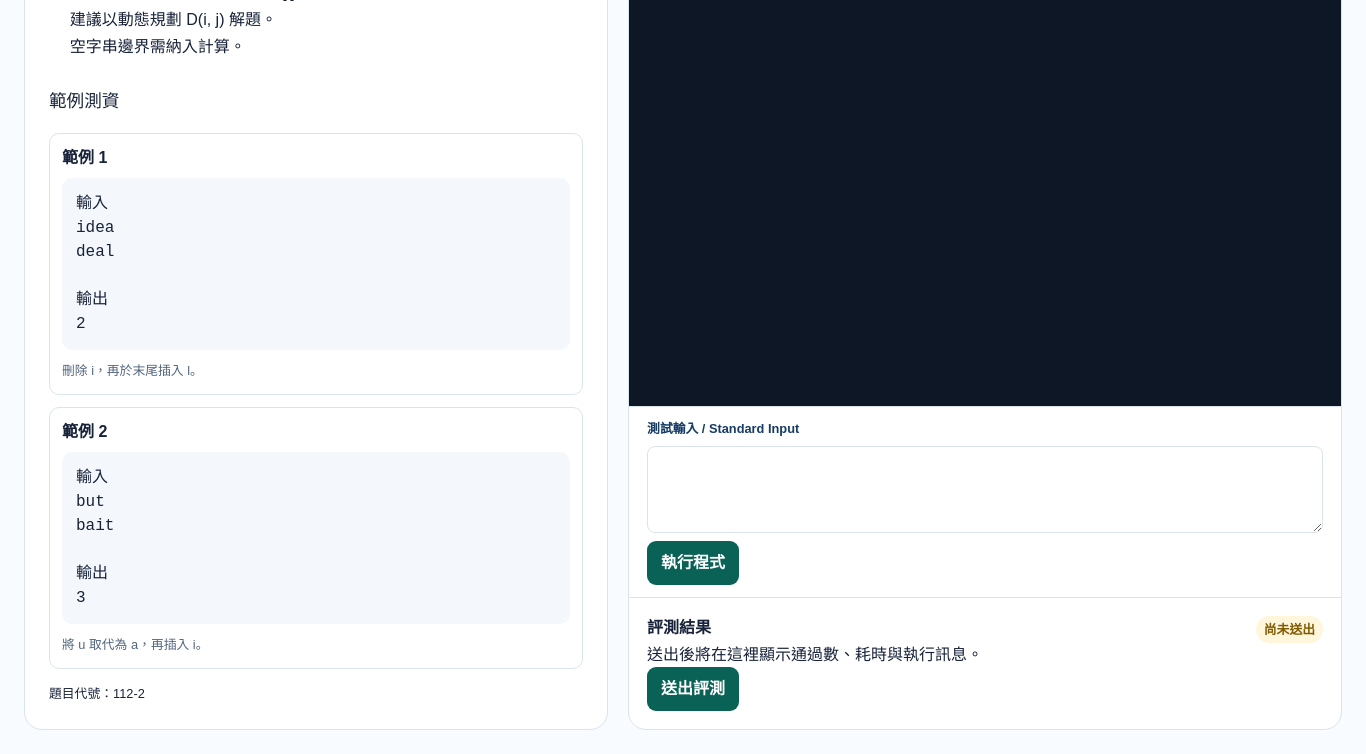
Test: Phase 4：server-authoritative finalization（Browser 不再自己決定成績） › 送出評測時會附上 elapsedSeconds（純顯示用資訊），且不再由 Browser 自行呼叫 /api/data 記分
(page scrolled)
Click the button "送出評測" at (693, 689), box [647, 667, 739, 711]
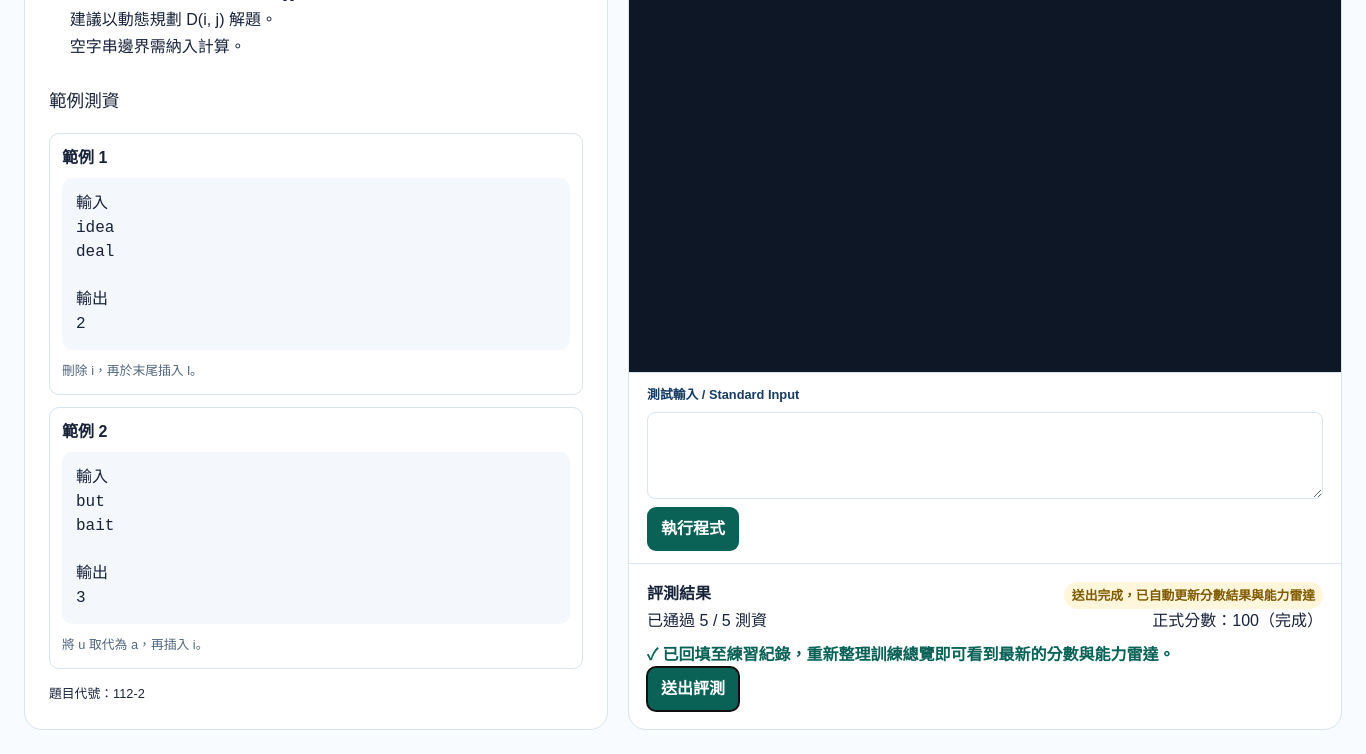
Expected: the text "送出完成，已自動更新分數結果與能力雷達" is shown, [1064, 582, 1323, 609]
Expected: the text "正式分數：100（完成）" is shown, [1152, 609, 1323, 633]
